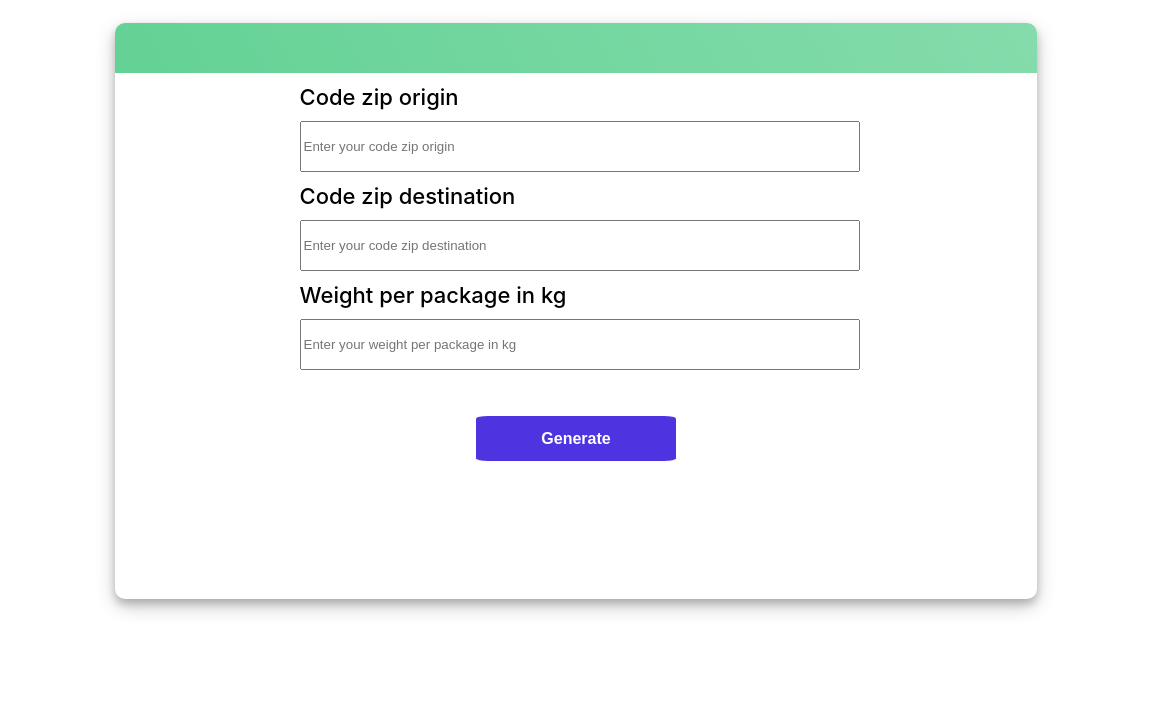
Scenario: test home input error code zip origin
The width and height of the screenshot is (1152, 720).
Type "0320" into the field with placeholder "Enter your code zip origin" at (580, 147), box [300,121,860,172]
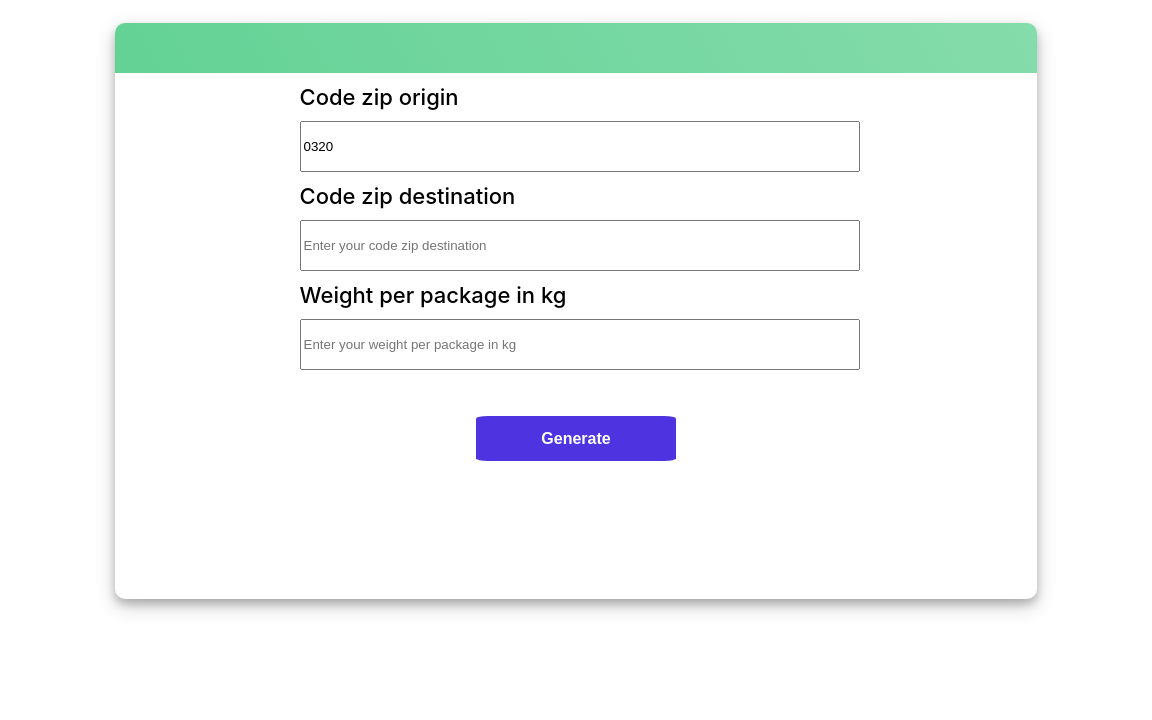
Click the button at (576, 439), box [476,416,676,461]
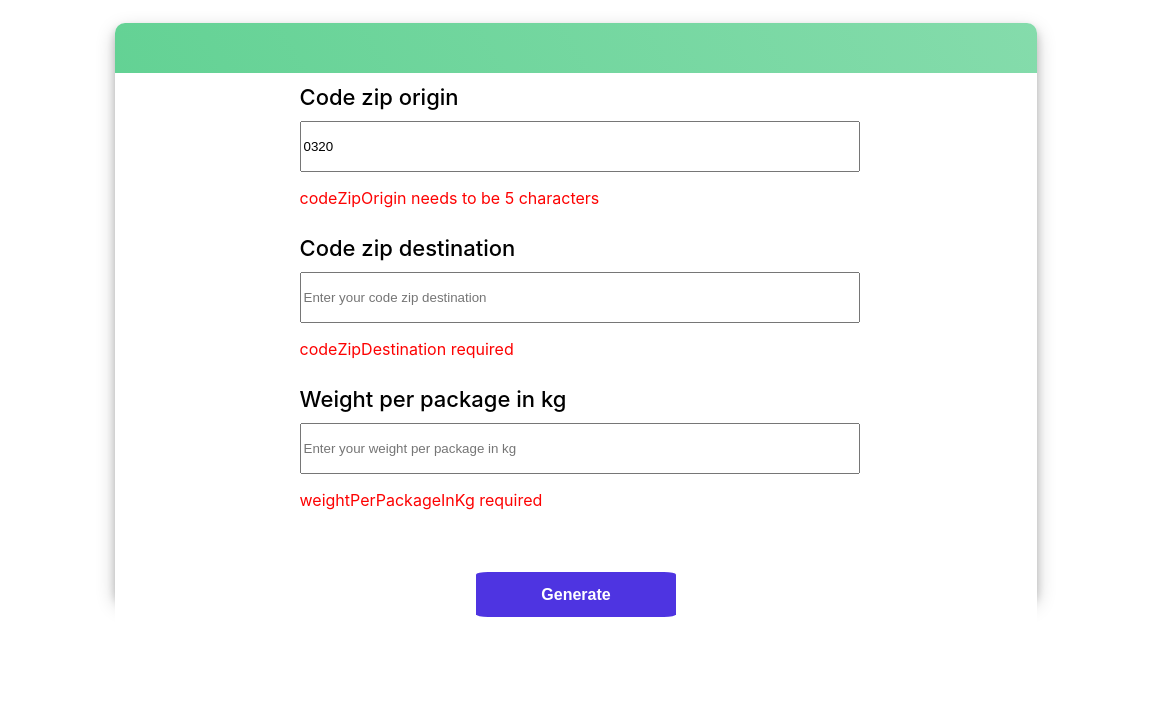
Expected: the text "codeZipOrigin needs to be 5 characters" is shown, [300,188,599,208]
